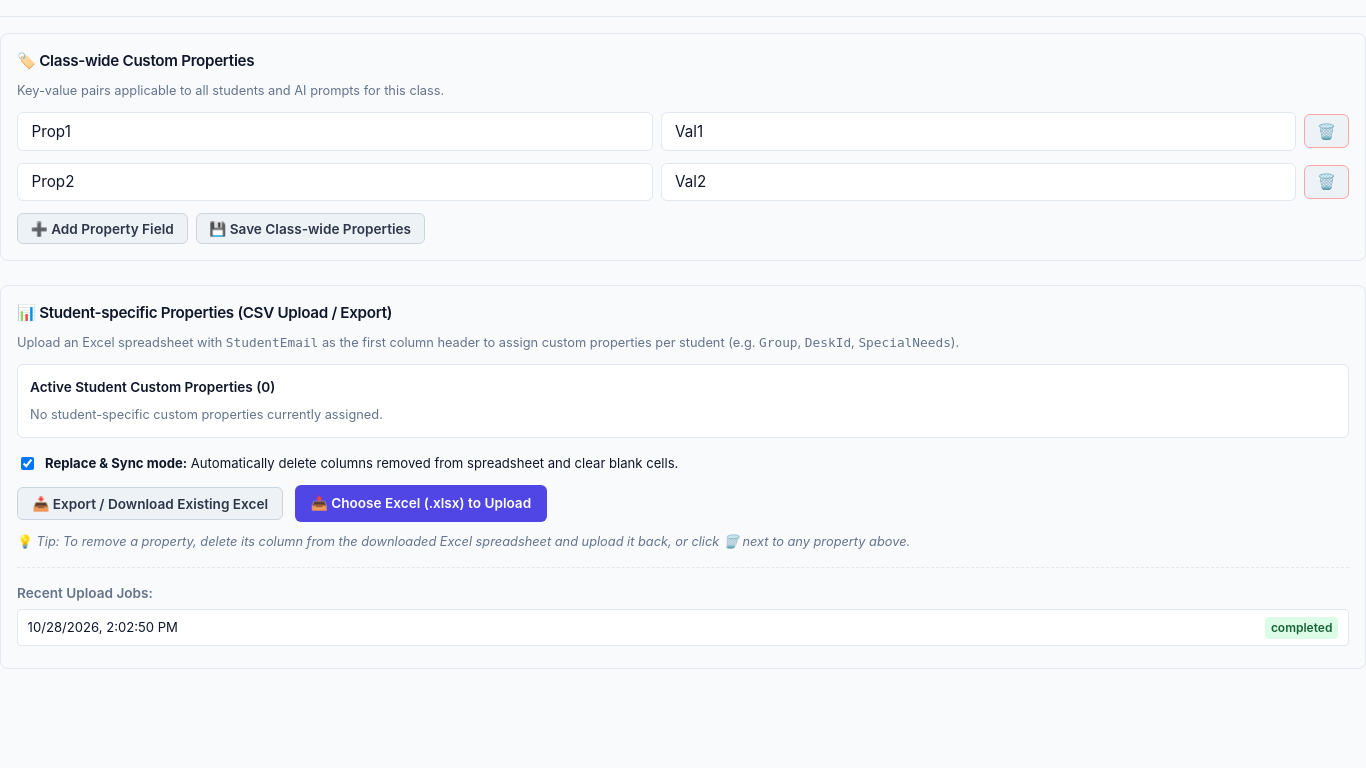
Scenario: CustomPropertiesManager Component › handles removing a property row and error states
Expected: the 1st field showing "Prop1" is shown, [17,112,652,151]
Remove first property row
What coordinates should you click on to do the following:
click the 1st button titled "Remove Property"
I would click on:
 (1326, 131)
Its box is [1304,114,1349,148].
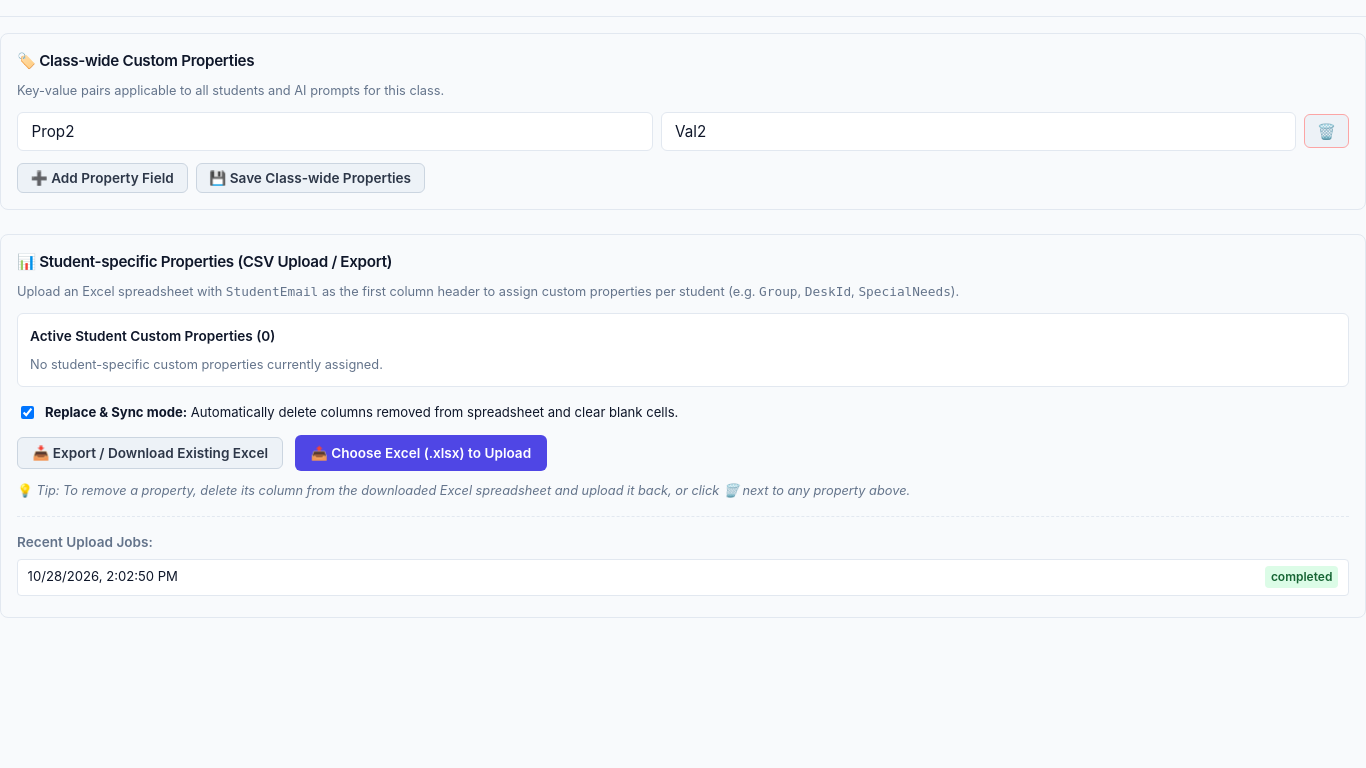
Expected: the field showing "Prop1" is not shown
What coordinates should you click on to do the following:
click the button "💾 Save Class-wide Properties"
I would click on:
 (310, 178)
Its box is [196,163,425,193].
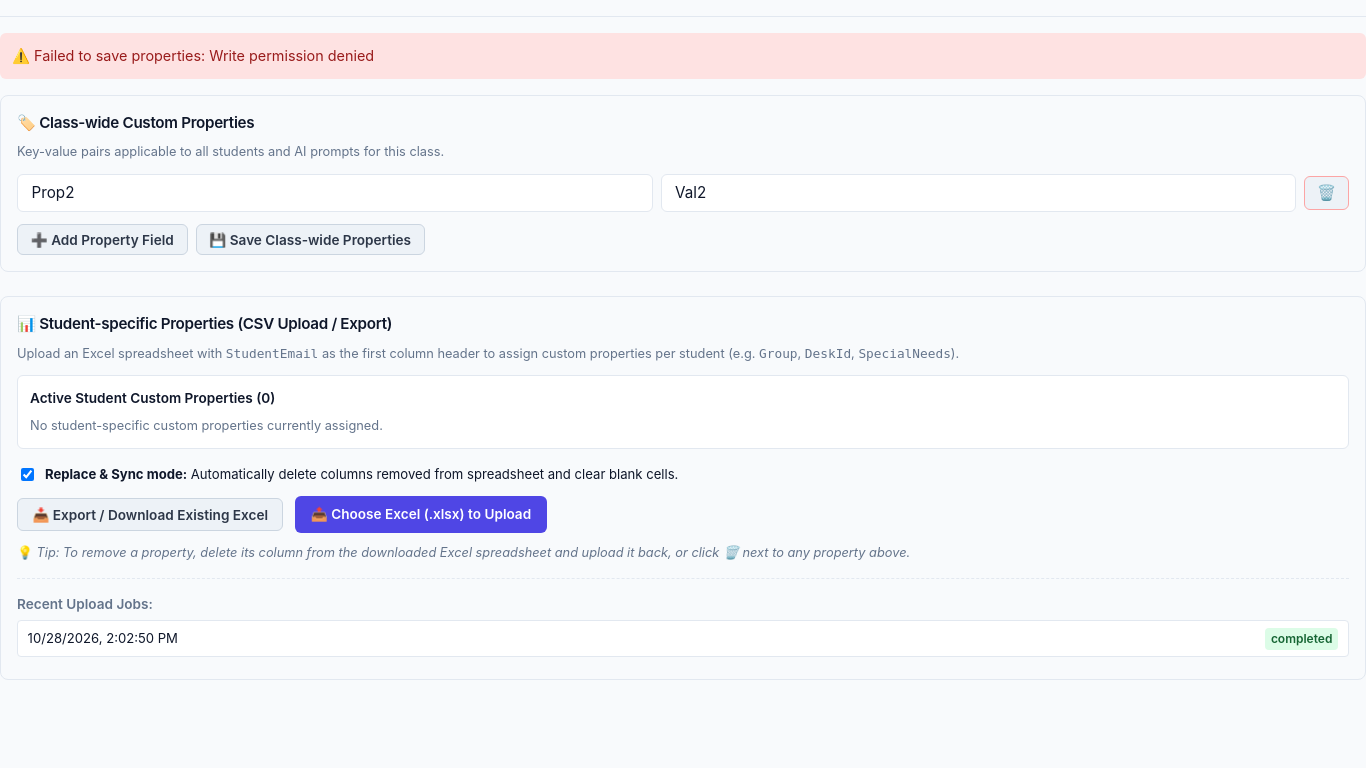
Expected: the text "⚠️ Failed to save properties: Write permission denied" is shown, [0,33,1365,79]
